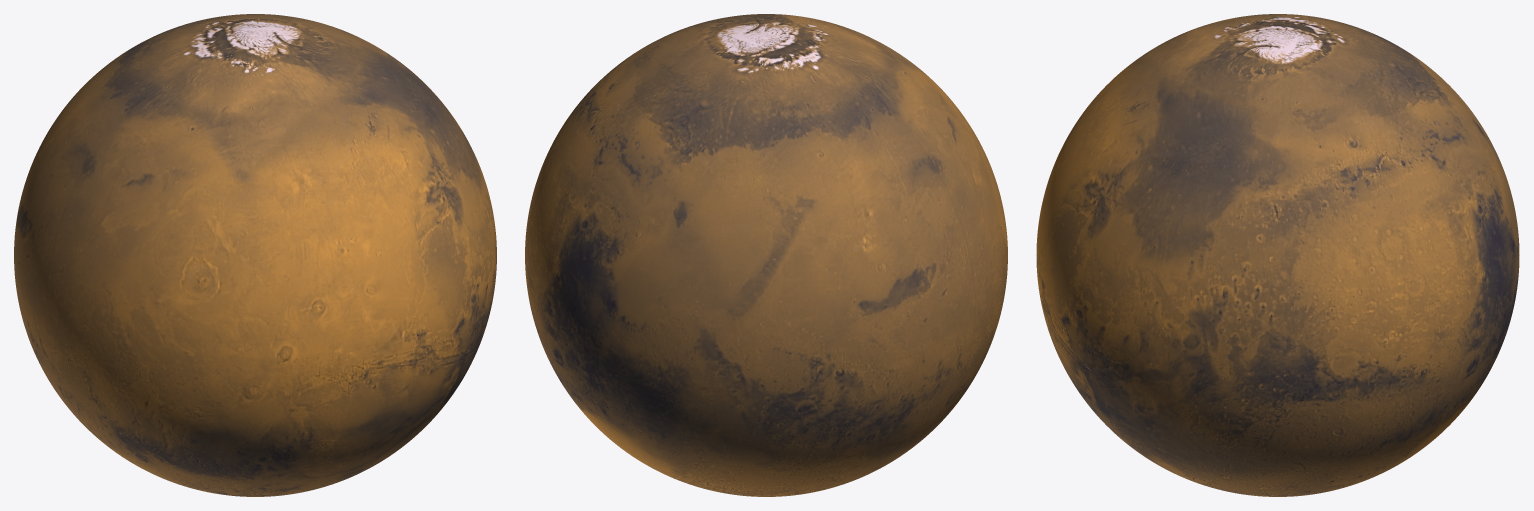
The model's file is mars.glb.
3 views of the same model, side by side, from view 1: azimuth 30°, elevation 25°; view 2: azimuth 150°, elevation 25°; view 3: azimuth 270°, elevation 25° (orthographic).
Parts seen in each view (by area): view 1: Mars.002; view 2: Mars.002; view 3: Mars.002.
Boxes of the visible parts, x1,y1,x2,y2 form: Mars.002: [14, 14, 496, 496]; Mars.002: [525, 14, 1007, 496]; Mars.002: [1036, 14, 1519, 496].
Bounding box in the file's own units: 2 × 2 × 2.
Materials: 1 (1 with a texture image).
